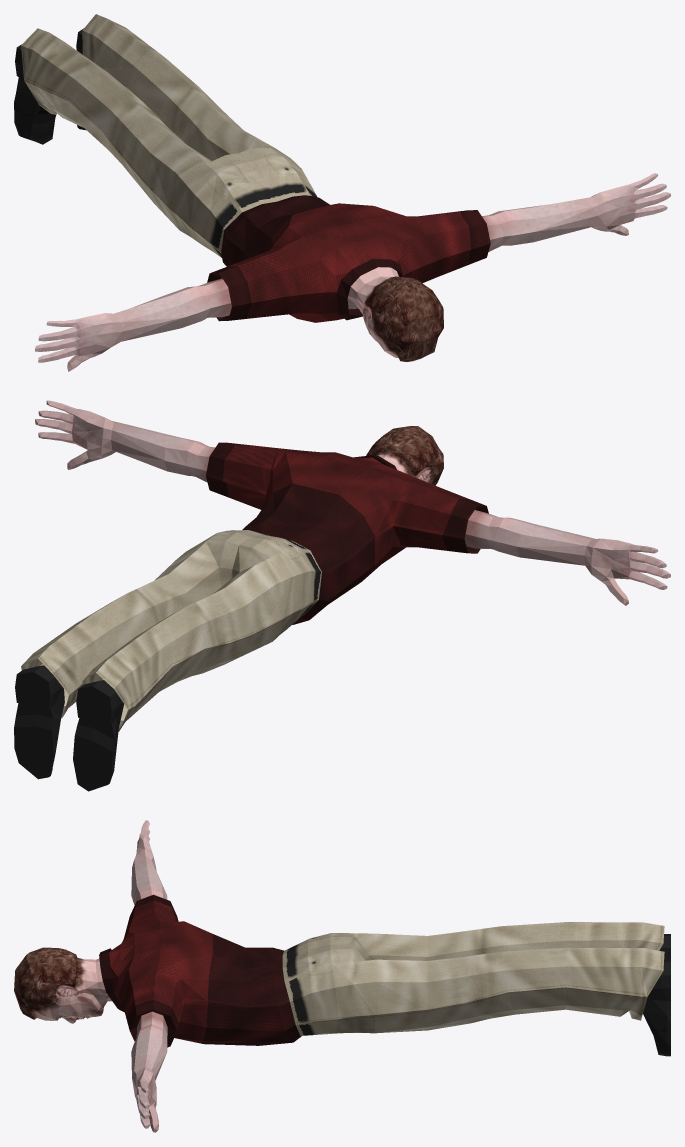
Rendered from tomdrinman1_3k_wtf.obj.
3 renders of one model, top to bottom at view 1: azimuth 30°, elevation 25°; view 2: azimuth 150°, elevation 25°; view 3: azimuth 270°, elevation 25°, orthographic. The views are drawn at different scales.
Visible parts, largest first — view 1: group1; view 2: group1; view 3: group1.
Part boxes in pixels (<box>): group1: <box>14,14,670,371</box>; group1: <box>14,400,670,791</box>; group1: <box>14,820,670,1132</box>.
Size of the model in its own units: 660 by 121 by 650.
